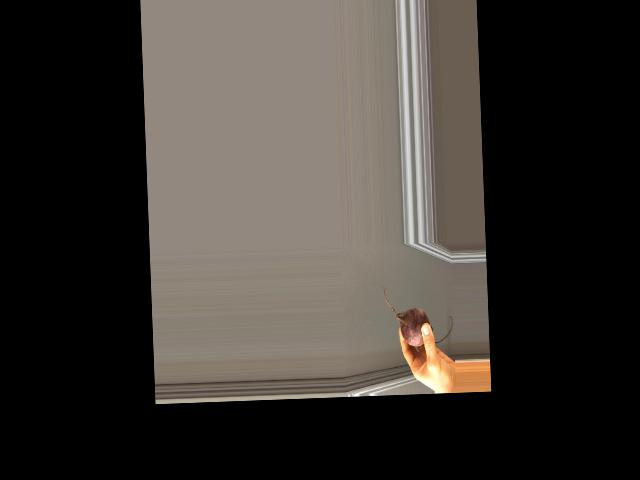beet: (383, 282, 454, 347)
